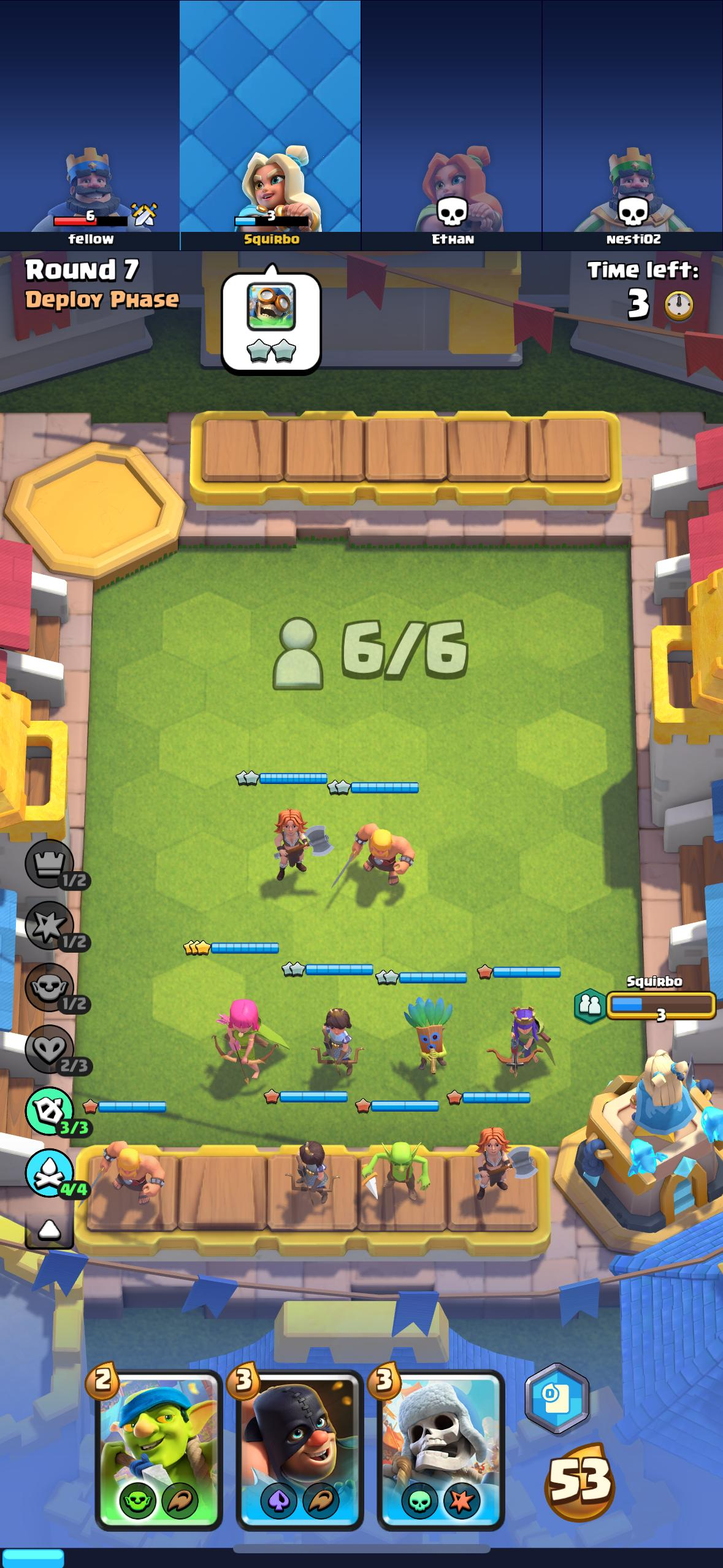archer: (198, 988, 292, 1082)
barbarian: (340, 810, 424, 899), (88, 1134, 173, 1204)
dart: (404, 989, 464, 1076)
goblin: (355, 1131, 438, 1203)
hand-executioner: (237, 1370, 363, 1523)
hand-giant: (376, 1370, 501, 1527)
hand-spear: (96, 1372, 218, 1528)
princess: (311, 994, 363, 1077), (284, 1130, 337, 1206)
queen: (488, 1001, 552, 1076)
valkyrie: (265, 792, 336, 880), (465, 1122, 540, 1193)
